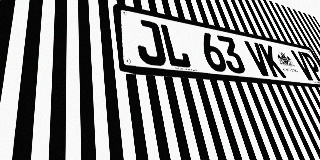3: (216, 35, 247, 74)
6: (197, 31, 229, 72)
J: (133, 18, 167, 66)
K: (258, 43, 287, 78)
L: (159, 23, 192, 69)
P: (301, 52, 320, 82)
V: (244, 40, 273, 77), (290, 50, 316, 81)
